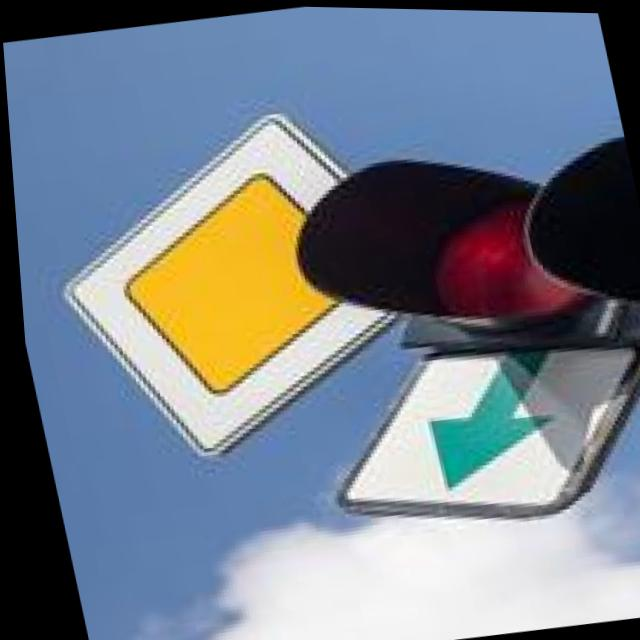red_light: (351, 141, 560, 359)
